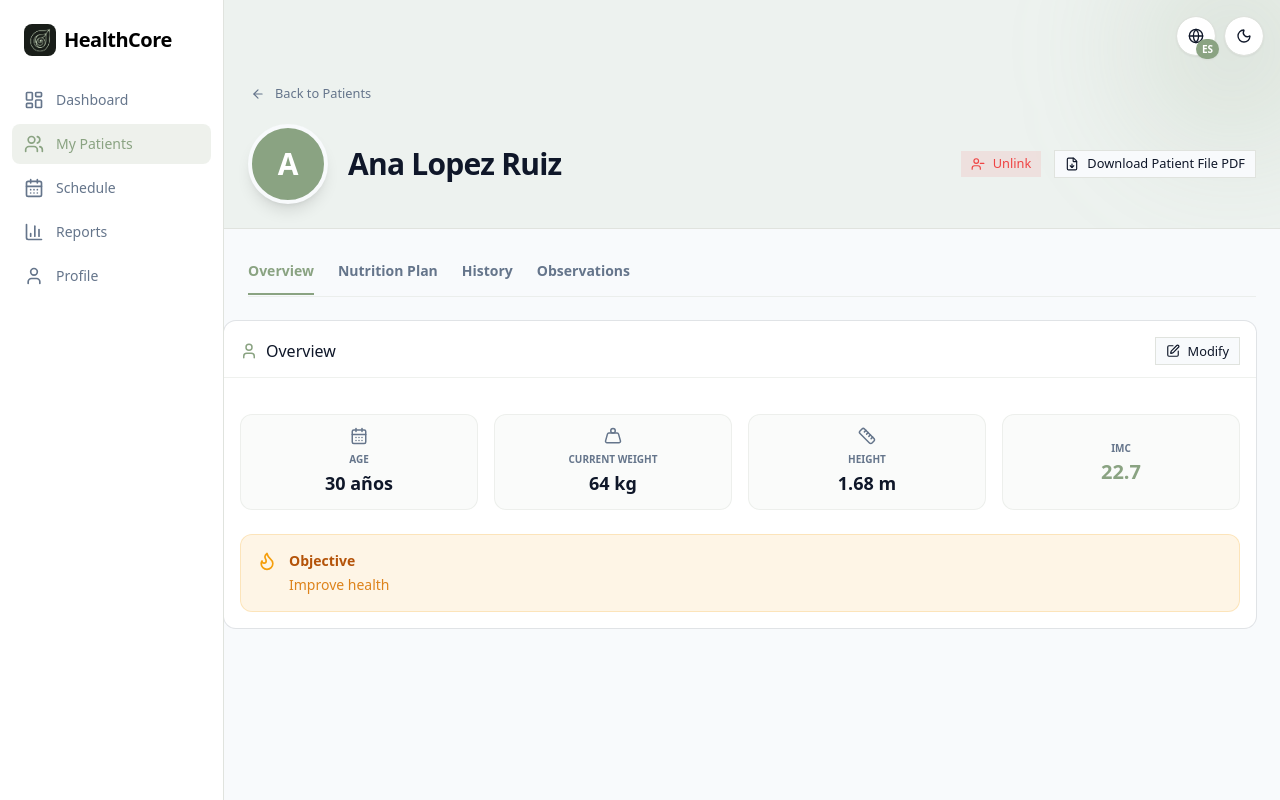
NutritionistPatientFilePage › renders the observations tab and shows saved observations
Expected: the heading "Ana Lopez Ruiz" is shown, [348,146,562,182]
Click the button "Observations" at (583,278), box [537,261,630,295]
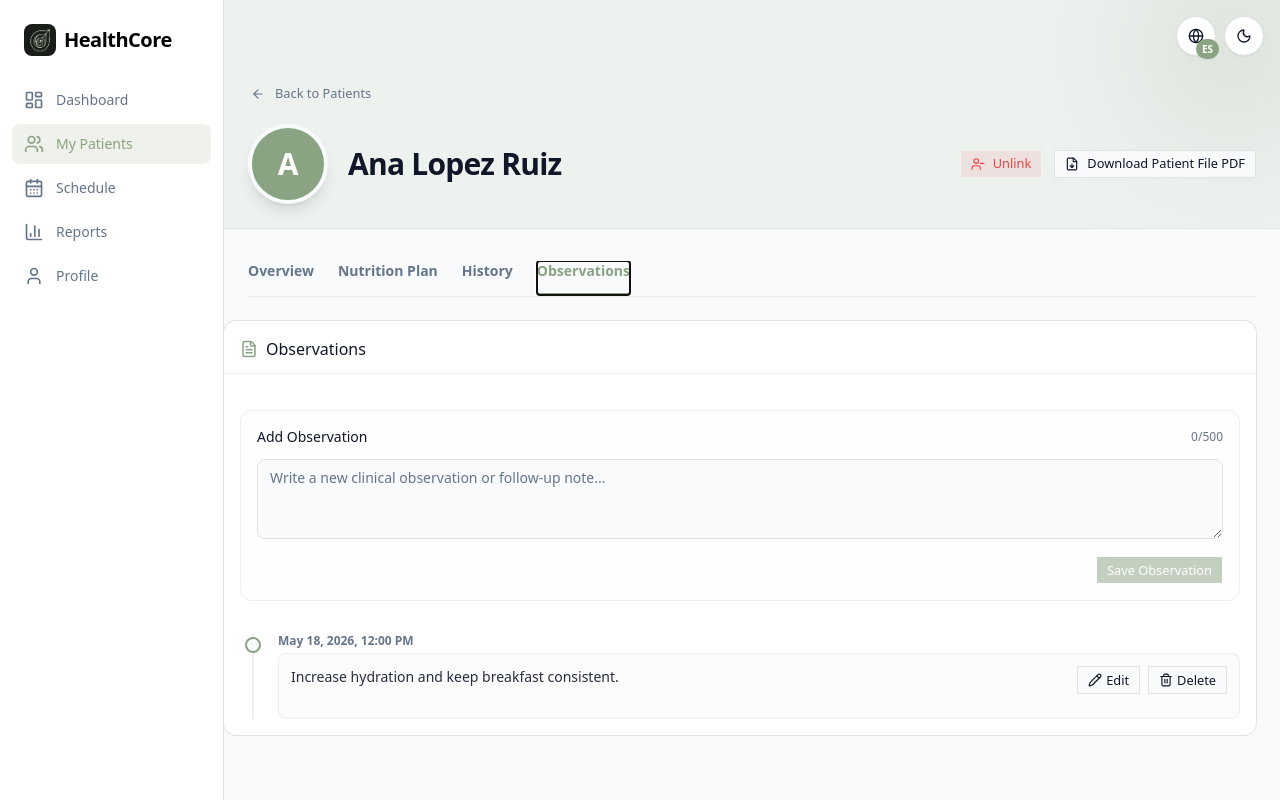
Now the text "Increase hydration and keep breakfast consistent." is shown, box [291,667,619,686]
